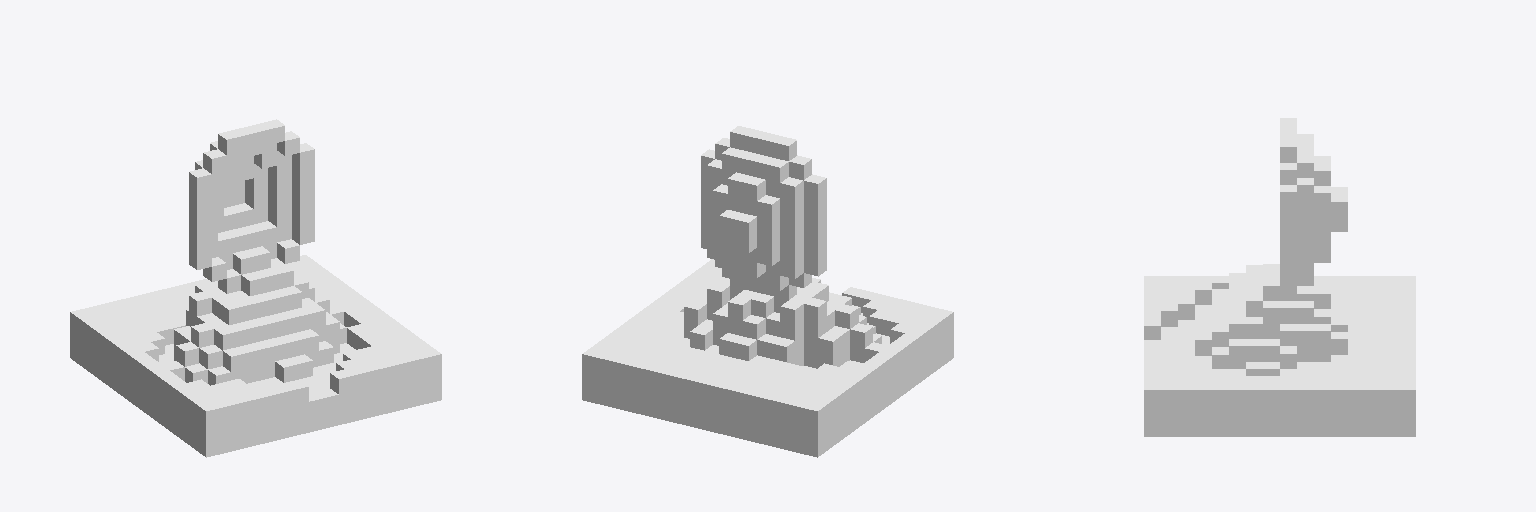
File: portal.obj
3 views of the same model, side by side, from view 1: azimuth 30°, elevation 25°; view 2: azimuth 150°, elevation 25°; view 3: azimuth 270°, elevation 25° (orthographic).
Visible parts, largest first — view 1: GrassPortal; view 2: GrassPortal; view 3: GrassPortal.
Boxes of the visible parts, x1,y1,x2,y2 form: GrassPortal: [70, 119, 441, 457]; GrassPortal: [582, 126, 953, 457]; GrassPortal: [1144, 118, 1415, 436].
Bounding box in the file's own units: 16 × 16 × 16.